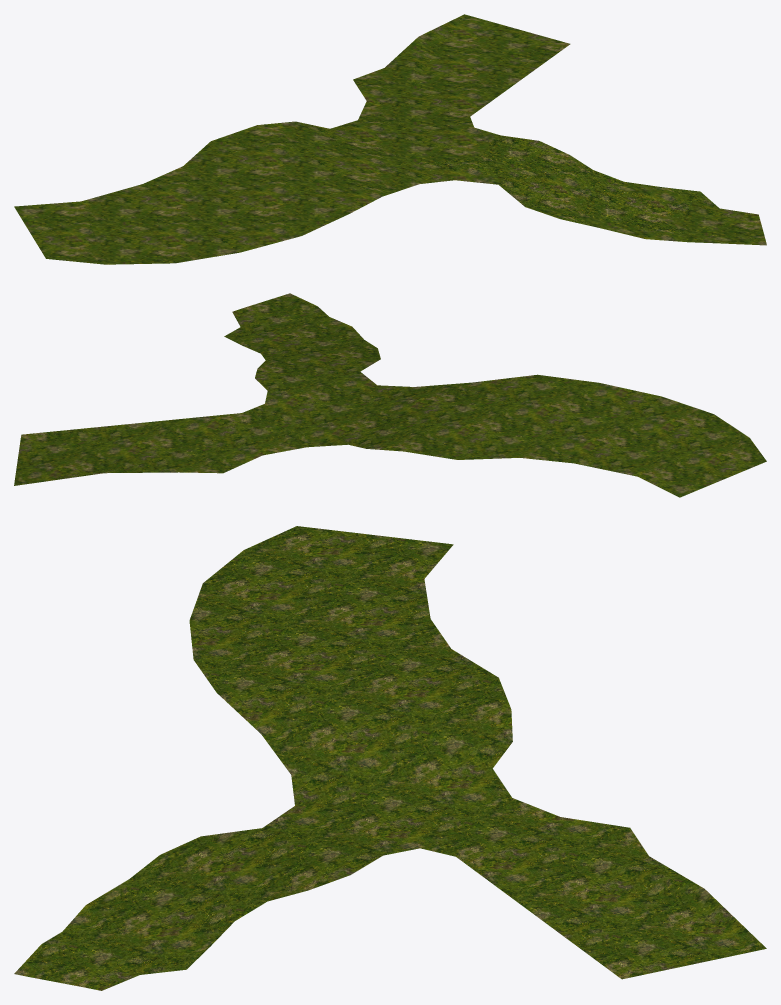
File: OVERHILL_A_01_LINE243.fbx
3 views of the same model, one above another, from view 1: azimuth 30°, elevation 25°; view 2: azimuth 150°, elevation 25°; view 3: azimuth 270°, elevation 25° (orthographic). The views are drawn at different scales.
Visible parts, largest first — view 1: OVERHILL_A_01_LINE243; view 2: OVERHILL_A_01_LINE243; view 3: OVERHILL_A_01_LINE243.
Boxes of the visible parts, box(x1,y1,x2,y2) form: OVERHILL_A_01_LINE243: box(14, 14, 766, 264); OVERHILL_A_01_LINE243: box(14, 293, 766, 497); OVERHILL_A_01_LINE243: box(14, 526, 766, 990).
Bounding box in the file's own units: 198349 × 16327 × 155683.
Materials: 1 (1 with a texture image).
